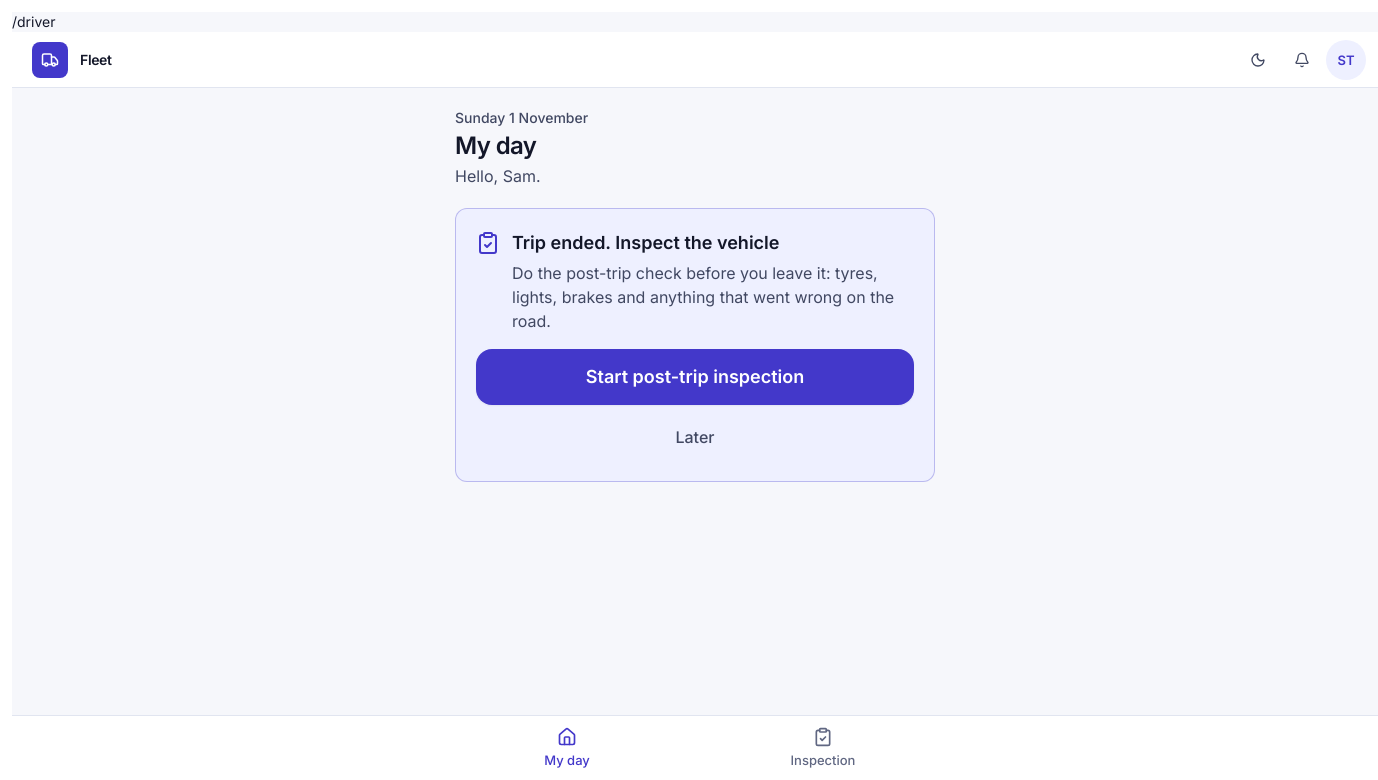
Test: Driver Home (S-11) › the post-trip prompt stays until the driver puts it off
Expected: the heading "My day" is shown, [455,131,536,160]
Click the button "Later": (695, 437) [476,413,914,461]
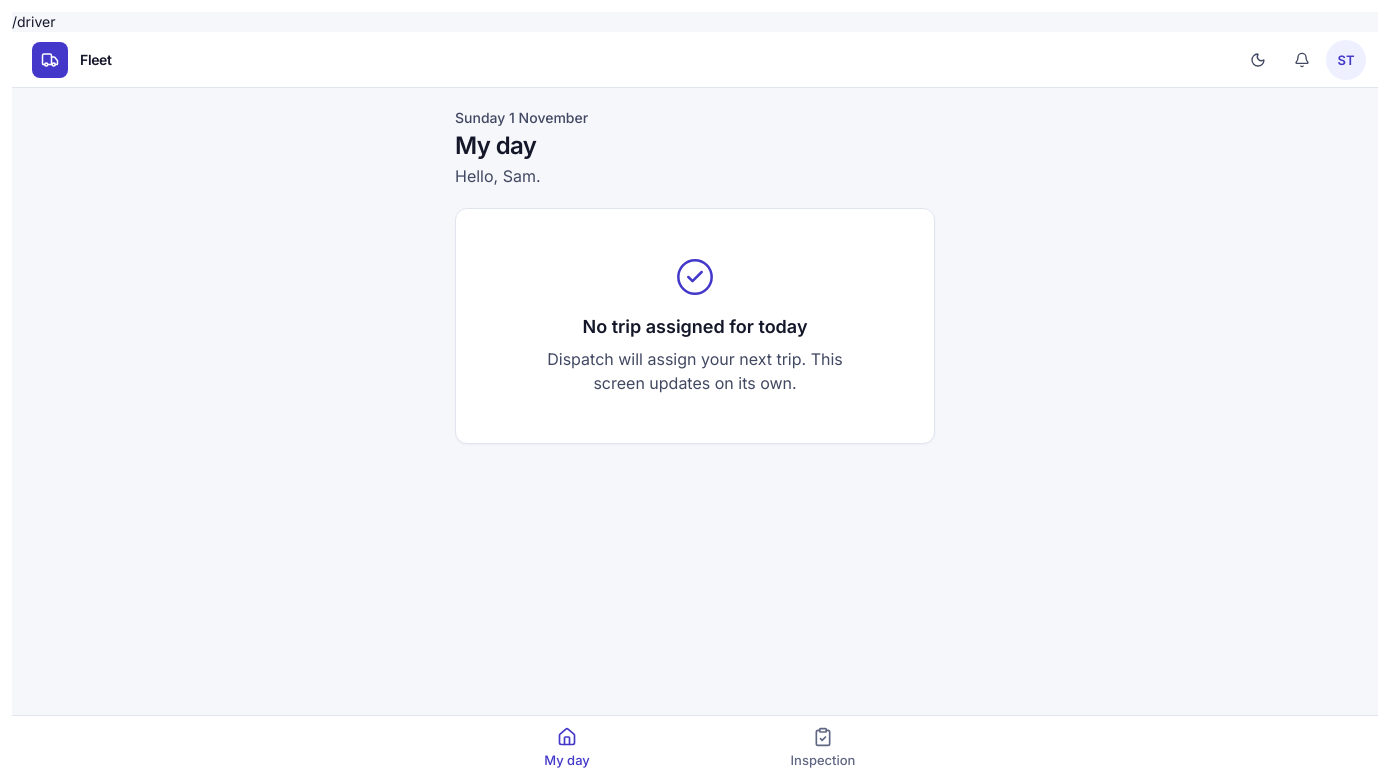
Now the link "post-trip inspection" is gone
